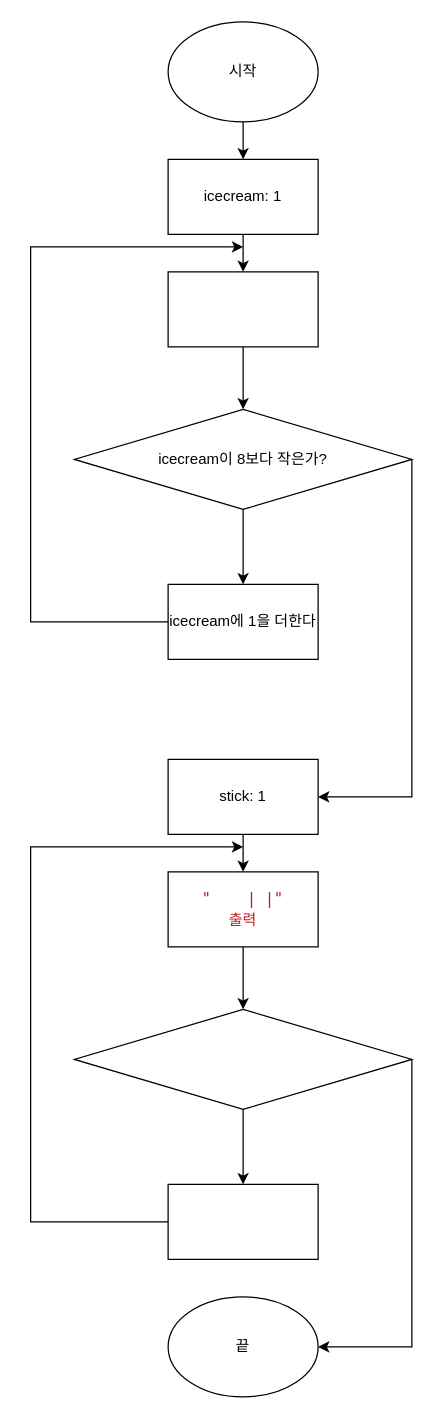
The diagram is 444 pixels wide and 1419 high, and some of its shapes have lost their labels. The centre of each missing label's shape, as x and y in pixels:
"***********" 출력: point (242, 309)
stick에 1을 더한다: point (242, 1221)
stick이 4보다 작은가?: point (242, 1058)
